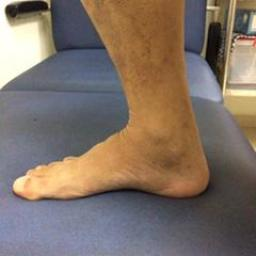Medial View -Right Foot-: (6, 88, 214, 216)
